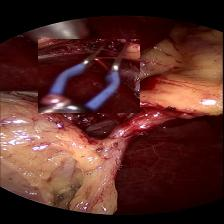Bipolar: (39, 38, 140, 112)
